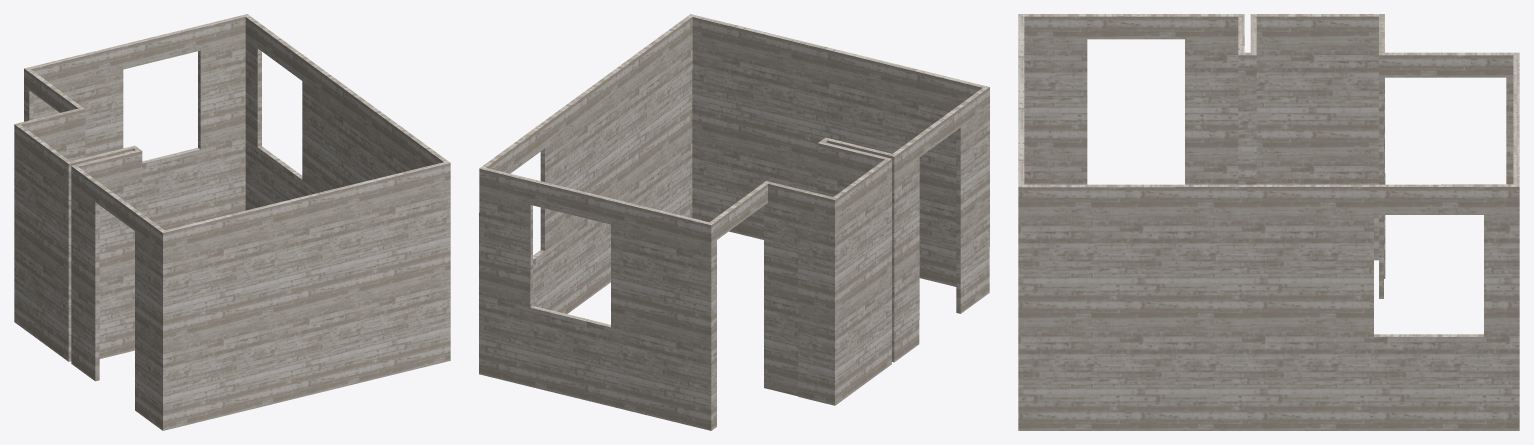
File: FP413:Walls_9ae271ff.obj
3 views of the same model, side by side, from view 1: azimuth 30°, elevation 25°; view 2: azimuth 150°, elevation 25°; view 3: azimuth 270°, elevation 25° (orthographic). The views are drawn at different scales.
Visible parts, largest first — view 1: FP413:Walls_9ae271ff; view 2: FP413:Walls_9ae271ff; view 3: FP413:Walls_9ae271ff.
Boxes of the visible parts, bbox=[...] form: FP413:Walls_9ae271ff: bbox=[14, 14, 450, 430]; FP413:Walls_9ae271ff: bbox=[479, 14, 989, 430]; FP413:Walls_9ae271ff: bbox=[1018, 14, 1519, 430].
Bounding box in the file's own units: 3.35 × 2.2 × 4.1.
